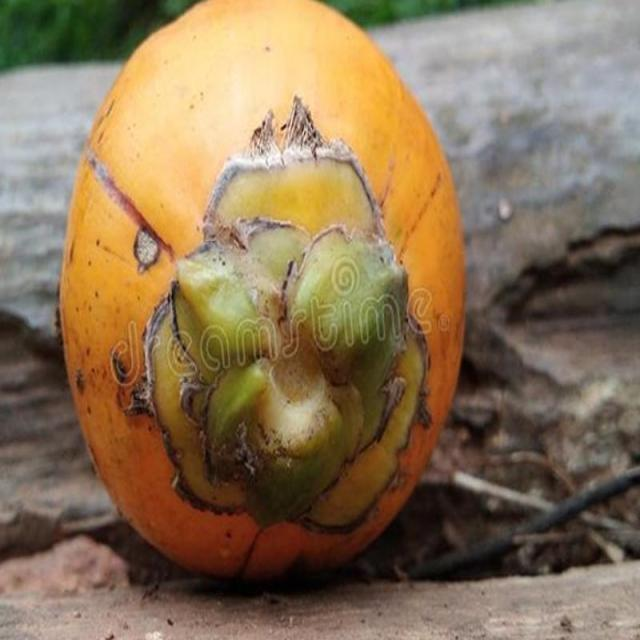good: (59, 0, 466, 589)
